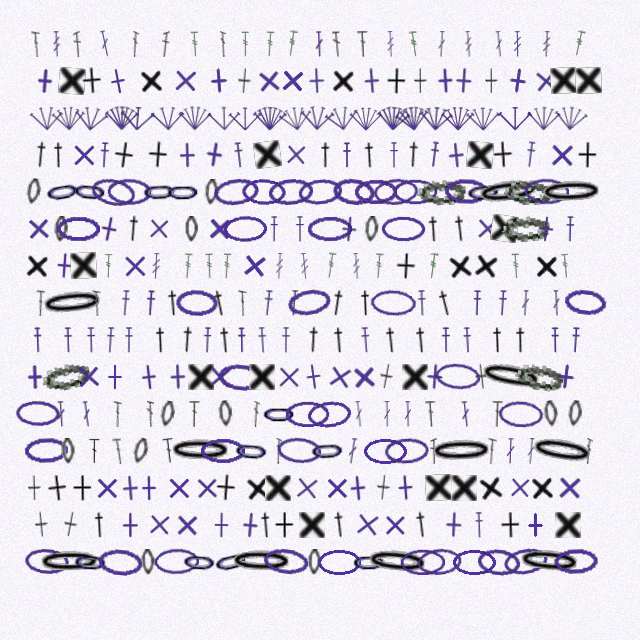chain: (477, 358, 545, 395), (528, 433, 596, 469), (475, 175, 542, 209), (39, 287, 106, 319), (364, 546, 431, 578), (516, 546, 583, 577), (40, 358, 92, 395), (539, 178, 604, 206), (429, 437, 494, 465), (168, 437, 233, 464), (229, 548, 294, 575), (37, 549, 102, 575), (89, 175, 137, 209), (514, 361, 565, 393), (502, 545, 550, 578), (286, 286, 333, 319), (212, 176, 260, 207), (262, 546, 309, 577), (331, 176, 377, 207), (501, 214, 550, 243), (306, 399, 353, 429), (563, 287, 608, 318), (297, 177, 343, 207), (217, 362, 263, 392), (97, 547, 143, 577), (476, 547, 522, 577), (417, 178, 466, 206), (267, 177, 314, 206), (434, 362, 481, 391), (416, 547, 463, 576), (373, 177, 419, 206), (276, 436, 322, 465), (24, 547, 70, 576), (211, 545, 251, 578), (370, 289, 416, 317), (498, 400, 544, 428), (384, 437, 429, 465), (504, 179, 552, 205), (15, 400, 61, 427), (107, 178, 152, 205), (241, 178, 286, 205), (524, 178, 569, 205), (154, 548, 199, 575), (553, 548, 598, 575), (43, 176, 82, 207), (444, 178, 488, 205), (223, 215, 267, 242), (175, 289, 219, 316), (24, 437, 68, 464), (393, 179, 438, 205), (307, 216, 352, 242), (381, 216, 426, 242), (285, 401, 330, 427), (200, 438, 245, 464), (363, 438, 408, 464), (400, 549, 445, 575), (354, 179, 398, 205), (56, 216, 100, 242), (317, 549, 361, 575), (452, 549, 496, 575), (71, 177, 109, 206), (465, 178, 502, 206), (233, 437, 270, 465), (72, 548, 109, 576), (181, 548, 218, 576), (141, 178, 178, 205), (309, 437, 346, 464), (165, 179, 201, 205), (261, 401, 297, 427), (351, 549, 387, 575), (131, 437, 150, 465), (159, 400, 176, 428), (25, 178, 42, 205), (543, 400, 559, 427), (567, 400, 583, 427), (218, 400, 233, 427), (204, 179, 219, 205), (364, 216, 379, 242), (54, 216, 68, 242), (61, 438, 75, 464), (141, 549, 155, 575), (185, 216, 198, 242), (308, 549, 321, 575)
double: (98, 30, 112, 57), (162, 437, 176, 464), (357, 31, 369, 57), (425, 401, 437, 427), (112, 438, 124, 464), (81, 401, 92, 427), (189, 401, 200, 427), (460, 401, 471, 427), (492, 401, 503, 427), (89, 438, 100, 464), (347, 438, 358, 464), (486, 438, 497, 464), (31, 31, 41, 57), (314, 31, 324, 57), (332, 31, 342, 57), (494, 31, 504, 57), (35, 290, 45, 316), (56, 401, 66, 427), (354, 401, 364, 427), (526, 438, 536, 464), (73, 31, 82, 57), (161, 31, 170, 57), (437, 31, 446, 57), (92, 290, 101, 316), (238, 290, 247, 316), (521, 290, 530, 316), (552, 290, 561, 316), (113, 401, 122, 427), (506, 438, 515, 464), (584, 438, 593, 464), (131, 31, 139, 57), (146, 401, 154, 427), (252, 401, 260, 427), (383, 401, 391, 427), (404, 401, 412, 427), (430, 438, 438, 464), (275, 438, 282, 464), (220, 31, 226, 57)
fan: (277, 102, 314, 133), (323, 102, 360, 133), (73, 103, 110, 133), (394, 103, 431, 133), (553, 103, 589, 132), (418, 104, 454, 132), (120, 104, 155, 132), (376, 104, 411, 132), (29, 104, 64, 131), (51, 104, 86, 131), (300, 104, 335, 131), (105, 104, 139, 131), (151, 104, 185, 131), (178, 104, 212, 131), (207, 104, 241, 131), (527, 104, 561, 131), (228, 105, 262, 131), (253, 105, 287, 131), (349, 105, 383, 131), (441, 105, 475, 131), (466, 105, 500, 131), (498, 105, 532, 131)
half_double: (435, 289, 455, 317), (210, 289, 229, 317), (328, 289, 347, 317), (32, 141, 50, 168), (405, 141, 422, 168), (125, 215, 142, 242), (179, 326, 196, 353), (305, 326, 322, 353), (331, 511, 348, 538), (413, 511, 430, 538), (452, 215, 468, 242), (165, 290, 181, 316), (217, 327, 233, 353), (331, 327, 347, 353), (383, 327, 399, 353), (413, 327, 429, 353), (258, 512, 274, 538), (51, 142, 66, 168), (318, 142, 333, 168), (362, 142, 377, 168), (426, 216, 441, 242), (358, 290, 373, 316), (153, 327, 168, 353), (490, 327, 505, 353), (513, 327, 528, 353), (92, 512, 107, 538), (428, 141, 441, 168), (524, 141, 537, 168), (233, 142, 245, 168), (262, 290, 274, 316), (288, 290, 300, 316), (99, 142, 110, 168), (120, 290, 131, 316), (145, 290, 156, 316), (497, 290, 508, 316), (105, 327, 116, 353), (202, 327, 213, 353), (257, 327, 268, 353), (360, 327, 371, 353), (462, 327, 473, 353), (570, 327, 581, 353), (342, 142, 352, 168), (389, 142, 399, 168), (269, 216, 279, 242), (295, 216, 305, 242), (565, 216, 575, 242), (417, 290, 427, 316), (472, 290, 482, 316), (63, 327, 73, 353), (86, 327, 96, 353), (124, 327, 134, 353), (281, 327, 291, 353), (441, 327, 451, 353), (550, 327, 560, 353), (474, 512, 484, 538), (33, 327, 42, 353), (237, 327, 246, 353)
single: (103, 66, 133, 96), (94, 214, 124, 244), (325, 362, 355, 392), (503, 66, 532, 95), (200, 140, 229, 169), (253, 140, 282, 169), (490, 214, 519, 243), (240, 251, 269, 280), (299, 362, 328, 391), (551, 362, 580, 391), (353, 510, 382, 539), (477, 473, 505, 502), (31, 67, 59, 95), (58, 67, 86, 95), (255, 67, 283, 95), (532, 67, 560, 95), (442, 141, 470, 169), (466, 141, 494, 169), (335, 215, 363, 243), (532, 215, 560, 243), (135, 363, 163, 391), (206, 363, 234, 391), (350, 363, 378, 391), (116, 474, 144, 502), (293, 474, 321, 502), (344, 474, 372, 502), (236, 511, 264, 539), (473, 251, 500, 280), (447, 252, 474, 280), (172, 67, 199, 94), (205, 67, 232, 94), (279, 67, 306, 94), (303, 67, 330, 94), (358, 67, 385, 94), (432, 67, 459, 94), (450, 67, 477, 94), (550, 67, 577, 94), (575, 67, 602, 94), (25, 215, 52, 242), (206, 215, 233, 242), (474, 215, 501, 242), (51, 252, 78, 279), (70, 252, 97, 279), (75, 363, 102, 390), (164, 363, 191, 390), (421, 363, 448, 390), (392, 474, 419, 501), (425, 474, 452, 501), (556, 474, 583, 501), (146, 511, 173, 538), (440, 511, 467, 538), (245, 474, 271, 502), (283, 141, 309, 168), (146, 215, 172, 242), (507, 474, 533, 501), (71, 142, 97, 168), (174, 142, 200, 168), (549, 142, 575, 168), (122, 253, 148, 279), (22, 364, 48, 390), (102, 364, 128, 390), (188, 364, 214, 390), (249, 364, 275, 390), (276, 364, 302, 390), (402, 364, 428, 390), (94, 475, 120, 501), (136, 475, 162, 501), (166, 475, 192, 501), (194, 475, 220, 501), (265, 475, 291, 501), (324, 475, 350, 501), (451, 475, 477, 501), (117, 512, 143, 538), (174, 512, 200, 538), (299, 512, 325, 538), (382, 512, 408, 538), (522, 512, 548, 538), (555, 512, 581, 538), (139, 67, 164, 94), (331, 67, 356, 94), (25, 252, 50, 279), (530, 474, 555, 501), (209, 512, 234, 538), (112, 141, 135, 169), (535, 253, 559, 279), (46, 474, 68, 502), (81, 67, 102, 94), (147, 141, 168, 168), (492, 141, 513, 168), (215, 474, 236, 501), (395, 253, 416, 279), (386, 68, 406, 94), (577, 142, 597, 168), (72, 475, 92, 501), (274, 512, 294, 538), (500, 512, 520, 538), (378, 363, 395, 390), (62, 511, 79, 538), (474, 363, 490, 390), (376, 474, 391, 501), (34, 511, 49, 538), (237, 68, 252, 94), (414, 68, 427, 94), (485, 68, 498, 94), (28, 475, 41, 501)
treble: (572, 30, 586, 57), (286, 30, 298, 57), (325, 252, 337, 279), (408, 31, 420, 57), (427, 253, 439, 279), (299, 253, 310, 279), (560, 253, 571, 279), (190, 31, 200, 57), (265, 31, 275, 57), (151, 253, 161, 279), (183, 253, 193, 279), (222, 253, 232, 279), (374, 253, 384, 279), (511, 253, 521, 279), (52, 31, 61, 57), (241, 31, 250, 57), (386, 31, 395, 57), (464, 31, 473, 57), (513, 31, 522, 57), (542, 31, 551, 57), (104, 253, 113, 279), (205, 253, 214, 279), (275, 253, 284, 279), (352, 253, 361, 279)
